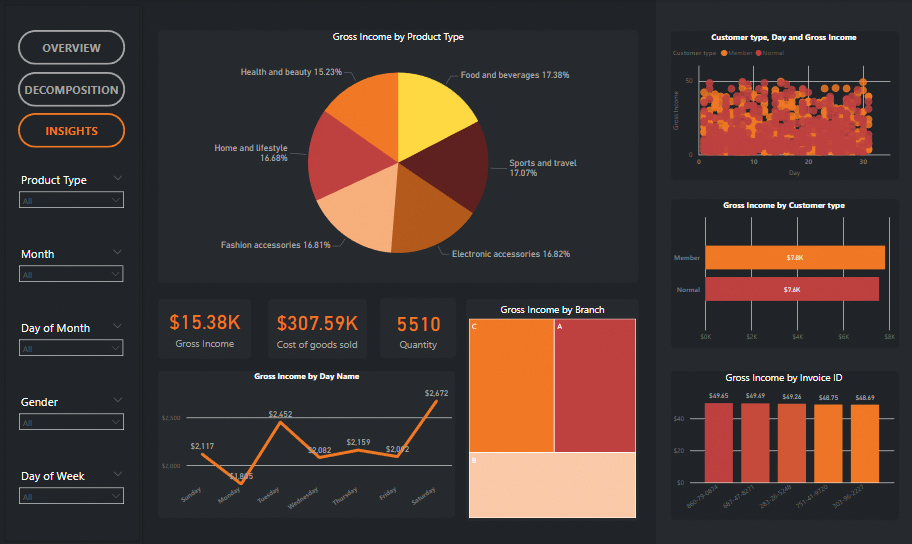

This screenshot's page, from the dashboard's own definition file:
{"tool":"powerbi","page":{"name":"INSIGHTS","canvas":[1500,900],"ordinal":2},"visuals":[{"type":"shape","box":[1078.6,0,421.4,900],"z":0},{"type":"shape","box":[0,0,241,900],"z":1000},{"type":"shape","box":[1102.9,610.4,374.6,244.5],"z":2000},{"type":"shape","box":[1102.9,52,374.6,244.5],"z":3000},{"type":"shape","box":[1102.9,328.6,374.6,244.5],"z":4000},{"type":"shape","box":[261.6,51.1,788.8,414.9],"z":5000},{"type":"shape","box":[261.6,611,488.4,241.1],"z":6000},{"type":"slicer","fields":{"Values":["supermarket_sales - Sheet1.Day Name"]},"box":[23.3,765,191.7,86.7],"z":7000},{"type":"slicer","fields":{"Values":["supermarket_sales - Sheet1.Product Type"]},"box":[23.3,280,191.7,86.7],"z":8000},{"type":"slicer","fields":{"Values":["supermarket_sales - Sheet1.month"]},"box":[23.3,401.3,191.2,86.5],"z":9000},{"type":"slicer","fields":{"Values":["supermarket_sales - Sheet1.day"]},"box":[23.3,522.5,191.2,86.5],"z":10000},{"type":"slicer","fields":{"Values":["supermarket_sales - Sheet1.Gender"]},"box":[23.3,643.7,191.7,86.7],"z":11000},{"type":"pieChart","fields":{"Category":["supermarket_sales - Sheet1.Product Type"],"Y":["Sum(supermarket_sales - Sheet1.Gross Income)"]},"box":[261.6,51.1,788.8,414.9],"z":12000},{"type":"scatterChart","fields":{"Y":["supermarket_sales - Sheet1.INCOME GROSS INDIVISUAL"],"Series":["supermarket_sales - Sheet1.Customer type"],"X":["supermarket_sales - Sheet1.Date.Variation.Date Hierarchy.Day"]},"box":[1102,52,374,244],"z":13000},{"type":"lineChart","fields":{"Y":["Sum(supermarket_sales - Sheet1.Gross Income)"],"Category":["supermarket_sales - Sheet1.Day Name"]},"box":[261.6,609,488.4,241.1],"z":14000},{"type":"barChart","fields":{"Category":["supermarket_sales - Sheet1.Customer type"],"Y":["Sum(supermarket_sales - Sheet1.Gross Income)"]},"box":[1102.5,329.3,374.2,244.5],"z":15000},{"type":"clusteredColumnChart","fields":{"Category":["supermarket_sales - Sheet1.Invoice ID"],"Y":["Sum(supermarket_sales - Sheet1.Gross Income)"]},"box":[1102.5,610.3,374.2,239.5],"z":16000},{"type":"shape","box":[766.3,492.5,284.1,363.8],"z":17000},{"type":"treemap","fields":{"Group":["supermarket_sales - Sheet1.Branch"],"Values":["Sum(supermarket_sales - Sheet1.Gross Income)"]},"box":[766.3,498.6,284.1,357.6],"z":18000},{"type":"shape","box":[261.6,492.5,153.3,98.1],"z":19000},{"type":"card","fields":{"Values":["Sum(supermarket_sales - Sheet1.Gross Income)"]},"box":[261.6,492.5,153.3,92],"z":20000},{"type":"shape","box":[441.4,492.5,163.5,98.1],"z":21000},{"type":"card","fields":{"Values":["Sum(supermarket_sales - Sheet1.Cost of goods sold)"]},"box":[441.4,490.5,161.4,98.1],"z":22000},{"type":"shape","box":[625.3,490.5,124.7,98.1],"z":23000},{"type":"card","fields":{"Values":["Sum(supermarket_sales - Sheet1.Quantity)"]},"box":[625.3,490.5,124.7,100.1],"z":24000},{"type":"actionButton","box":[31.6,119.7,176.3,56.5],"z":25000},{"type":"actionButton","box":[31.6,187.9,176.3,56.5],"z":26000},{"type":"actionButton","box":[31.6,51.6,176.3,56.5],"z":27000}]}

Visuals, with their boxes in screenshot pixels (x1, y1, x2, y2), scaled from the page's 1500x900 canvas onto the 912x544 screenshot:
shape: bbox=(656, 0, 911, 543)
shape: bbox=(0, 0, 147, 543)
shape: bbox=(671, 369, 898, 517)
shape: bbox=(671, 31, 898, 179)
shape: bbox=(671, 199, 898, 346)
shape: bbox=(159, 31, 639, 282)
shape: bbox=(159, 369, 456, 515)
slicer - supermarket_sales - Sheet1.Day Name: bbox=(14, 462, 131, 515)
slicer - supermarket_sales - Sheet1.Product Type: bbox=(14, 169, 131, 222)
slicer - supermarket_sales - Sheet1.month: bbox=(14, 243, 130, 295)
slicer - supermarket_sales - Sheet1.day: bbox=(14, 316, 130, 368)
slicer - supermarket_sales - Sheet1.Gender: bbox=(14, 389, 131, 441)
pieChart - supermarket_sales - Sheet1.Product Type x Sum(supermarket_sales - Sheet1.Gross Income): bbox=(159, 31, 639, 282)
scatterChart - supermarket_sales - Sheet1.INCOME GROSS INDIVISUAL x supermarket_sales - Sheet1.Customer type: bbox=(670, 31, 897, 179)
lineChart - Sum(supermarket_sales - Sheet1.Gross Income) x supermarket_sales - Sheet1.Day Name: bbox=(159, 368, 456, 514)
barChart - supermarket_sales - Sheet1.Customer type x Sum(supermarket_sales - Sheet1.Gross Income): bbox=(670, 199, 898, 347)
clusteredColumnChart - supermarket_sales - Sheet1.Invoice ID x Sum(supermarket_sales - Sheet1.Gross Income): bbox=(670, 369, 898, 514)
shape: bbox=(466, 298, 639, 518)
treemap - supermarket_sales - Sheet1.Branch x Sum(supermarket_sales - Sheet1.Gross Income): bbox=(466, 301, 639, 518)
shape: bbox=(159, 298, 252, 357)
card - Sum(supermarket_sales - Sheet1.Gross Income): bbox=(159, 298, 252, 353)
shape: bbox=(268, 298, 368, 357)
card - Sum(supermarket_sales - Sheet1.Cost of goods sold): bbox=(268, 296, 367, 356)
shape: bbox=(380, 296, 456, 356)
card - Sum(supermarket_sales - Sheet1.Quantity): bbox=(380, 296, 456, 357)
actionButton: bbox=(19, 72, 126, 107)
actionButton: bbox=(19, 114, 126, 148)
actionButton: bbox=(19, 31, 126, 65)
